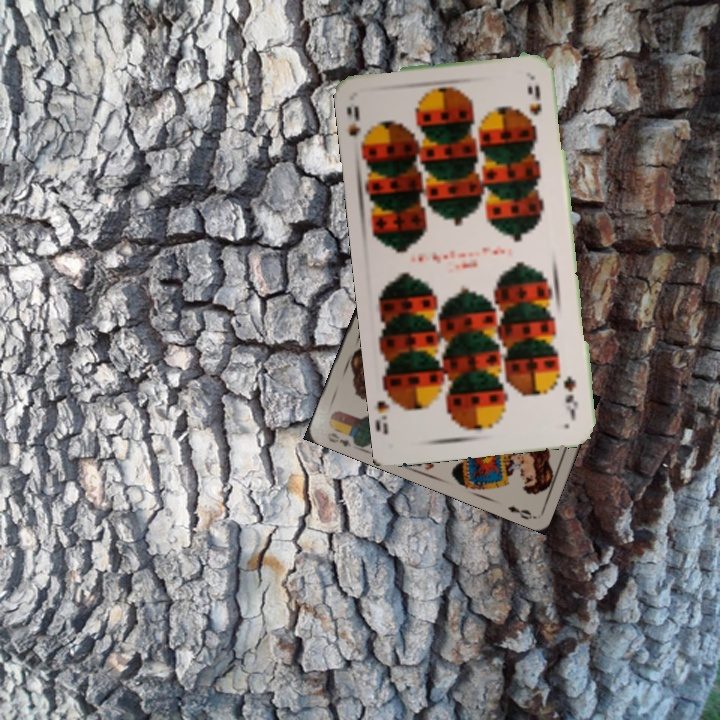EO: (323, 428, 353, 449)
S9: (343, 102, 371, 152), (559, 372, 580, 421)
